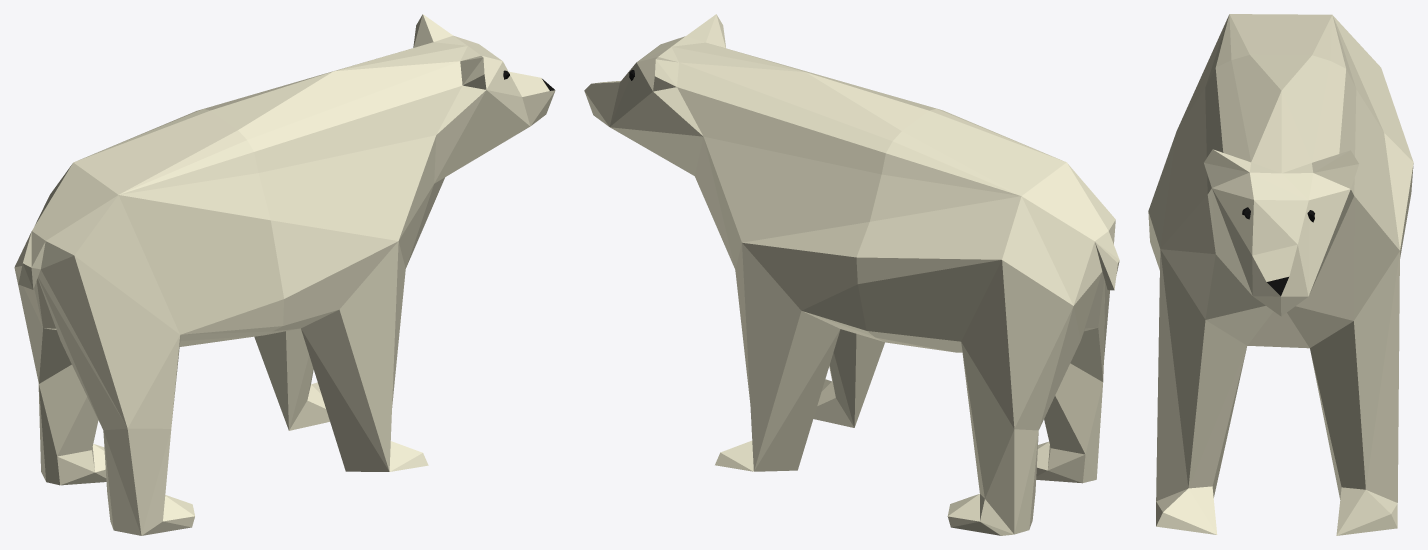
The model's file is polar_bear.FBX.
3 renders of one model, left to right at view 1: azimuth 30°, elevation 25°; view 2: azimuth 150°, elevation 25°; view 3: azimuth 270°, elevation 25°, orthographic. The views are drawn at different scales.
Visible parts, largest first — view 1: polar_bear; view 2: polar_bear; view 3: polar_bear.
Boxes of the visible parts, x1=… form: polar_bear: x1=14, y1=14, x2=555, y2=535; polar_bear: x1=584, y1=14, x2=1119, y2=535; polar_bear: x1=1148, y1=14, x2=1413, y2=535.
Size of the model in its own units: 146 by 100 by 55.18.
